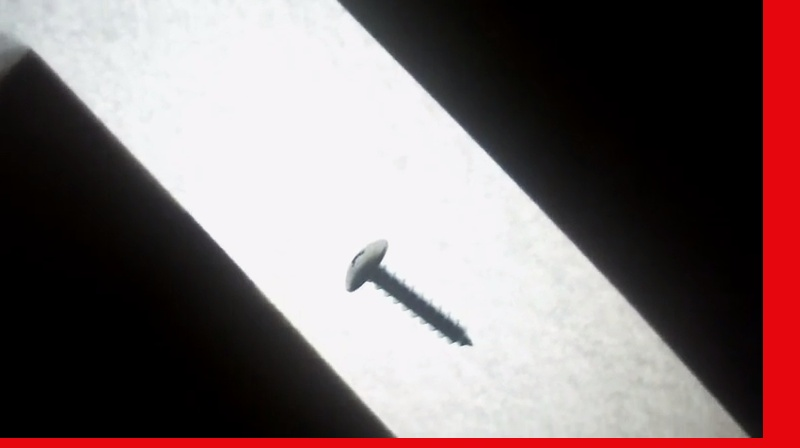S003: (339, 234, 477, 347)
